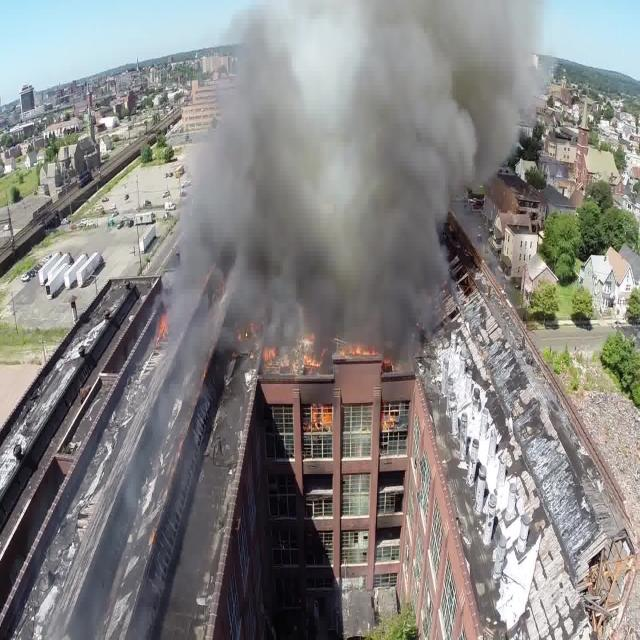Smoke: (152, 0, 559, 390)
